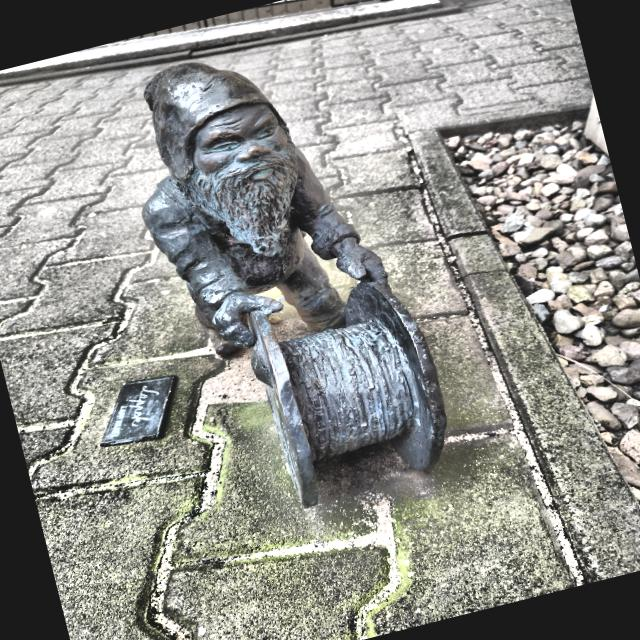Lappek: (141, 60, 447, 507)
